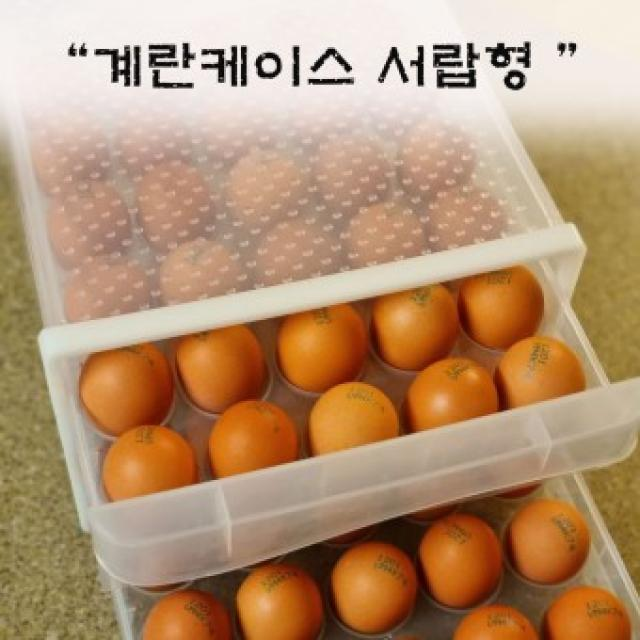eggs: (83, 339, 177, 443), (272, 293, 366, 389), (404, 350, 499, 438), (178, 316, 270, 406), (501, 494, 593, 584), (372, 281, 462, 371), (418, 515, 500, 610), (207, 394, 298, 478), (462, 261, 544, 353), (100, 425, 199, 501), (238, 560, 325, 640), (331, 545, 418, 625), (498, 334, 584, 414), (301, 380, 398, 447), (544, 586, 639, 640), (460, 597, 536, 640)
